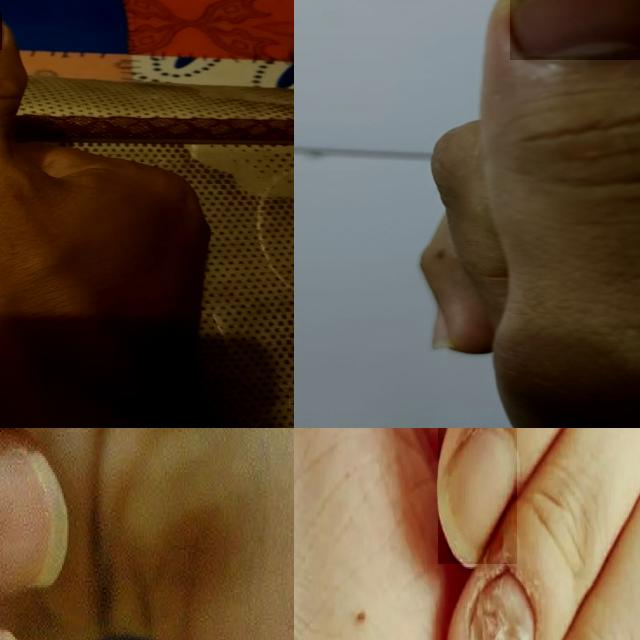diabetes: (471, 571, 535, 640)
sehat: (438, 428, 517, 564), (0, 456, 51, 591)
